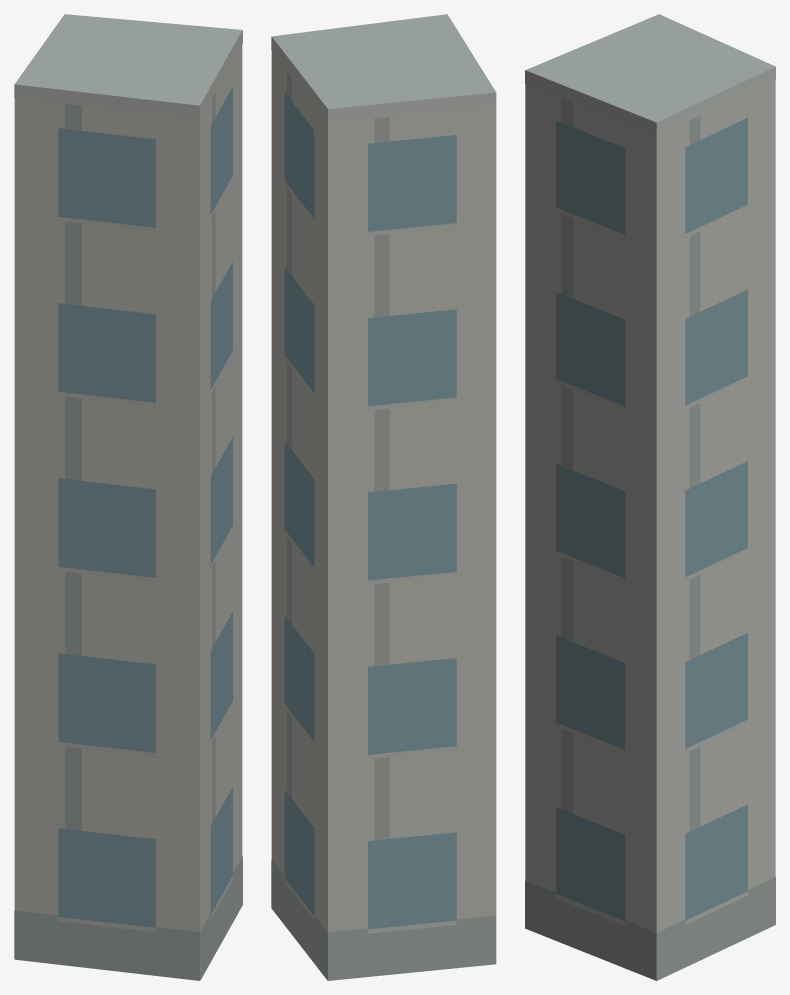
The model's file is survey-upis-32782704.glb.
3 views of the same model, side by side, from view 1: azimuth 30°, elevation 25°; view 2: azimuth 150°, elevation 25°; view 3: azimuth 270°, elevation 25° (orthographic).
Visible parts, largest first — view 1: survey-upis-32782704.tmp; view 2: survey-upis-32782704.tmp; view 3: survey-upis-32782704.tmp.
Boxes of the visible parts, x1,y1,x2,y2 form: survey-upis-32782704.tmp: (14, 14, 242, 980); survey-upis-32782704.tmp: (271, 14, 496, 980); survey-upis-32782704.tmp: (525, 14, 775, 980).
Size of the model in its own units: 4.14 by 15.25 by 4.04.
